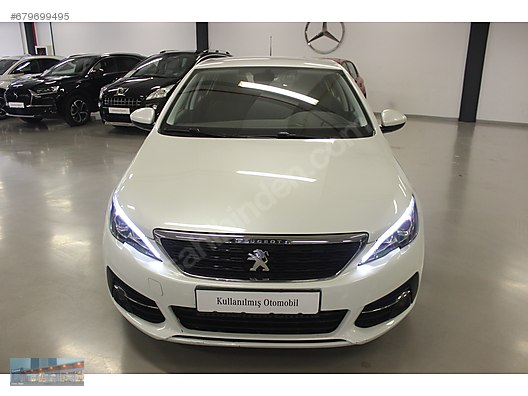peugeot: (100, 54, 426, 357)
